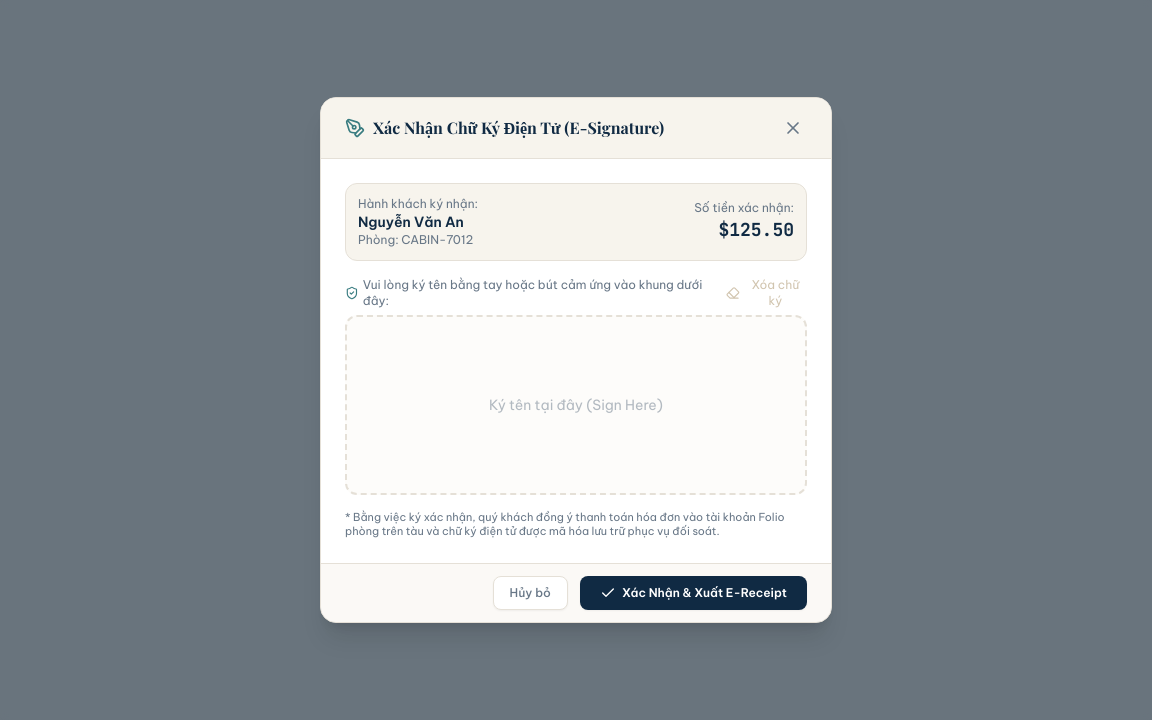
Test: PosDigitalSignaturePad Component Tests (KAN-305 & KAN-520) › clears canvas drawing and resets stroke status
The image size is (1152, 720).
Press the mouse on the drawing at (576, 405), box [347, 317, 805, 493]
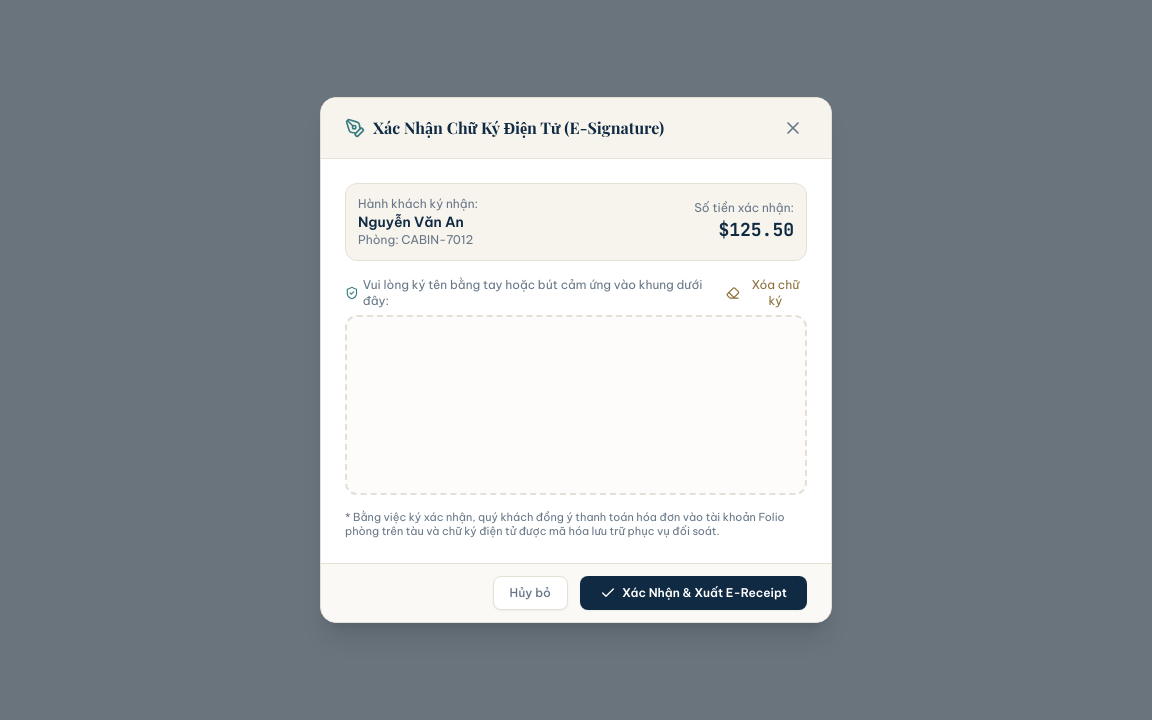
Click the button "Xóa chữ ký" at (766, 293), box [726, 277, 807, 309]
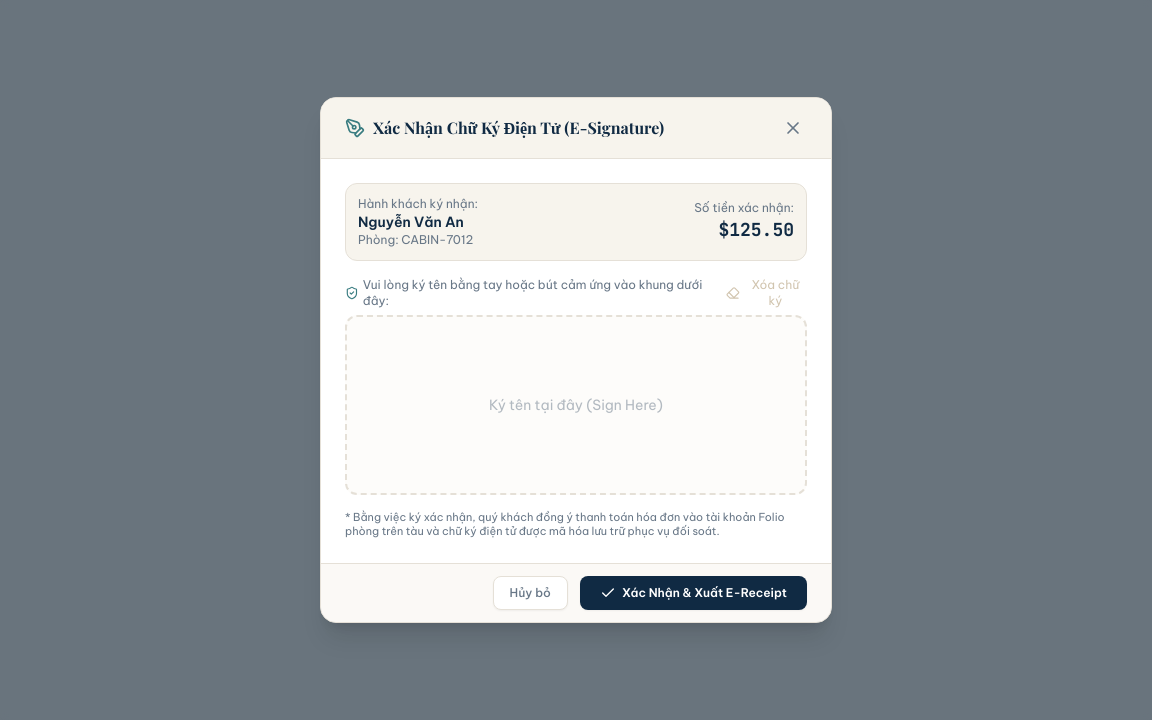
Click the button "Xác Nhận & Xuất E-Receipt" at (693, 593), box [580, 576, 807, 610]
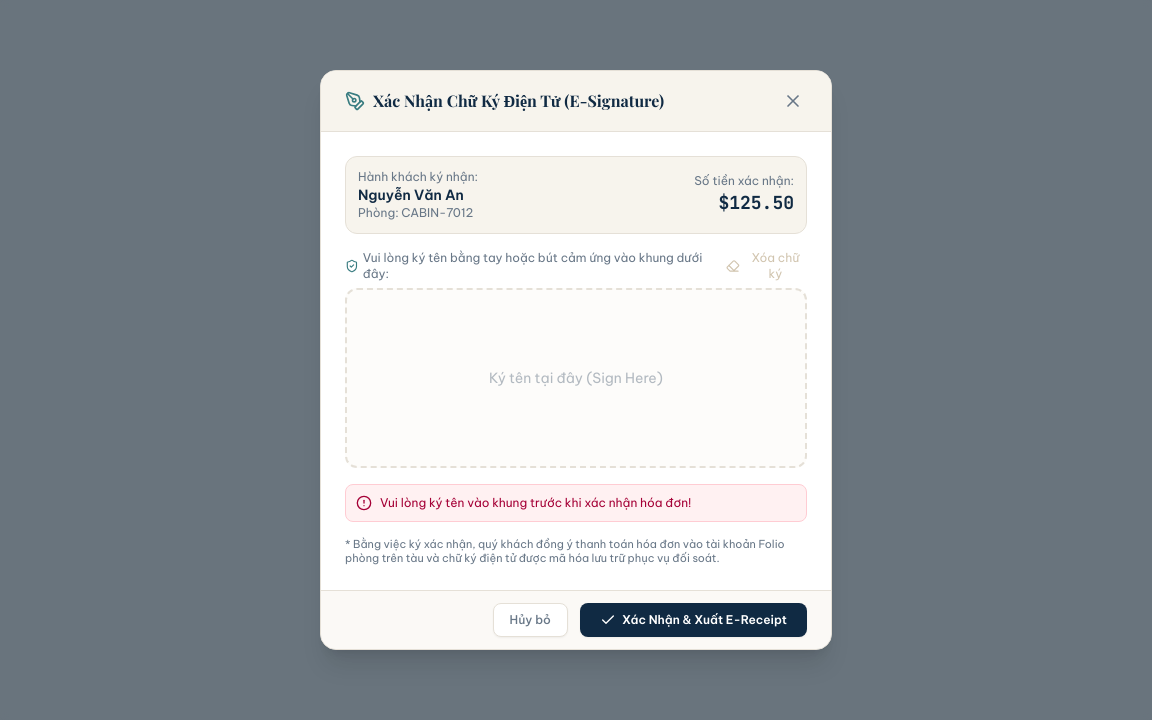
Check: the text "Vui lòng ký tên vào khung trước khi xác nhận hóa đơn!" is shown, box [380, 495, 691, 511]
